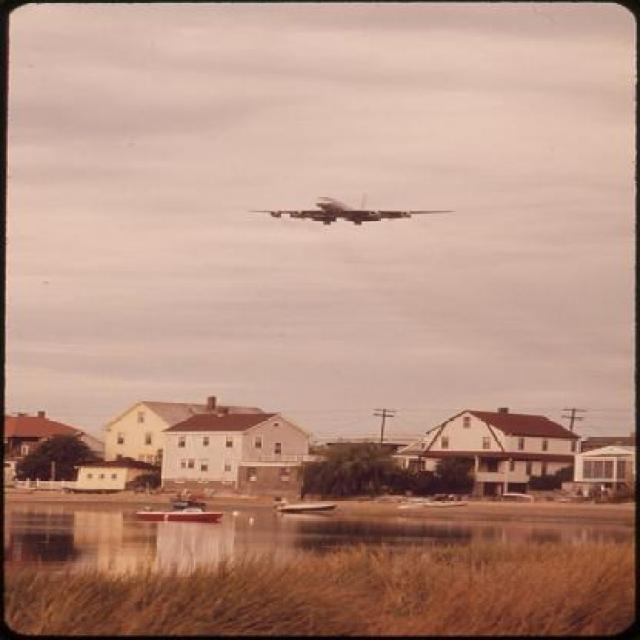ship: (131, 495, 223, 520), (269, 495, 337, 513), (421, 496, 465, 506)
